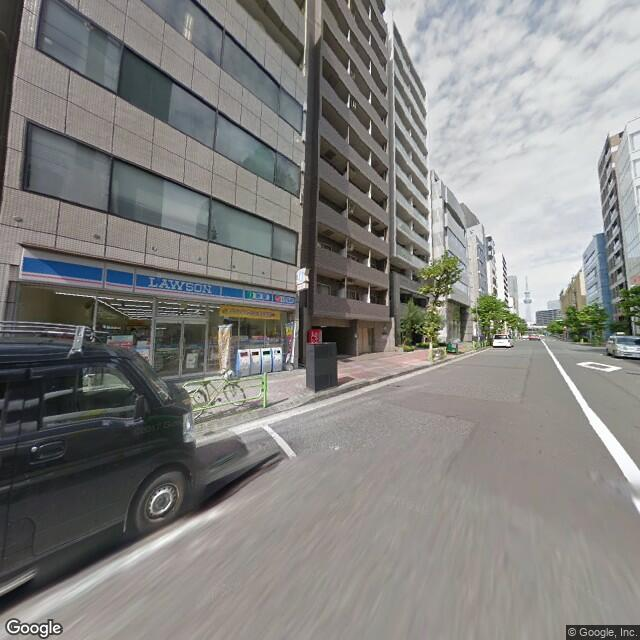lawson: (18, 244, 305, 313)
